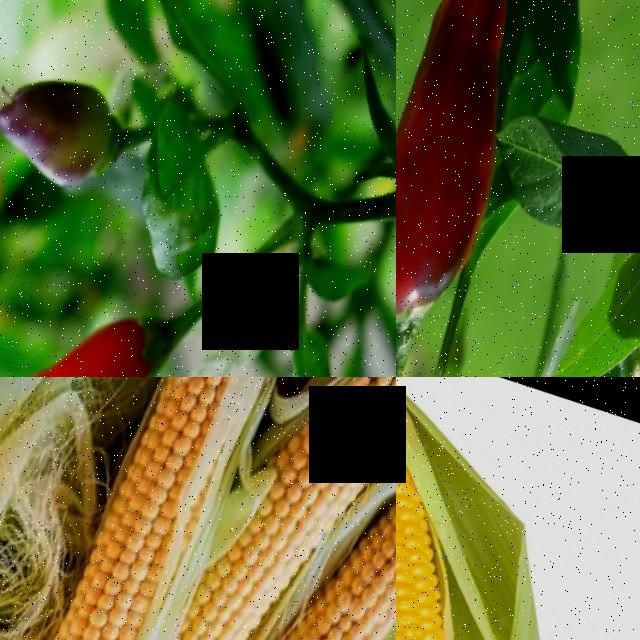chilli: (396, 0, 590, 377), (4, 263, 200, 377)
corn: (0, 377, 272, 640), (396, 377, 607, 640), (217, 377, 396, 563), (139, 515, 300, 640), (184, 556, 396, 640), (328, 453, 396, 640)
